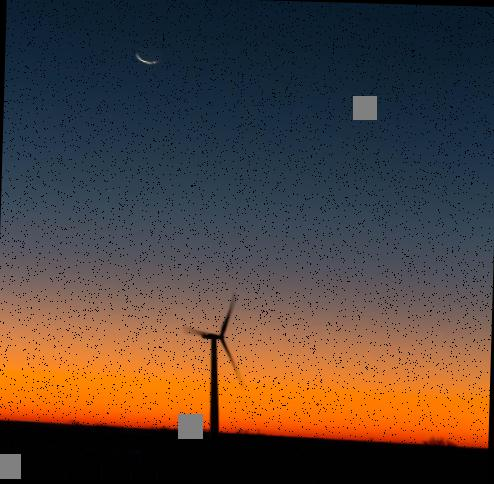wind turbine: (180, 290, 252, 433)
